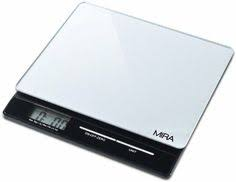Industrial Scale: (1, 1, 233, 179)
